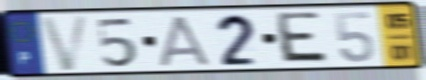2: (211, 10, 262, 70)
5: (94, 15, 140, 68), (332, 9, 376, 64)
A: (157, 14, 213, 68)
E: (276, 10, 332, 66)
V: (37, 13, 93, 73)
